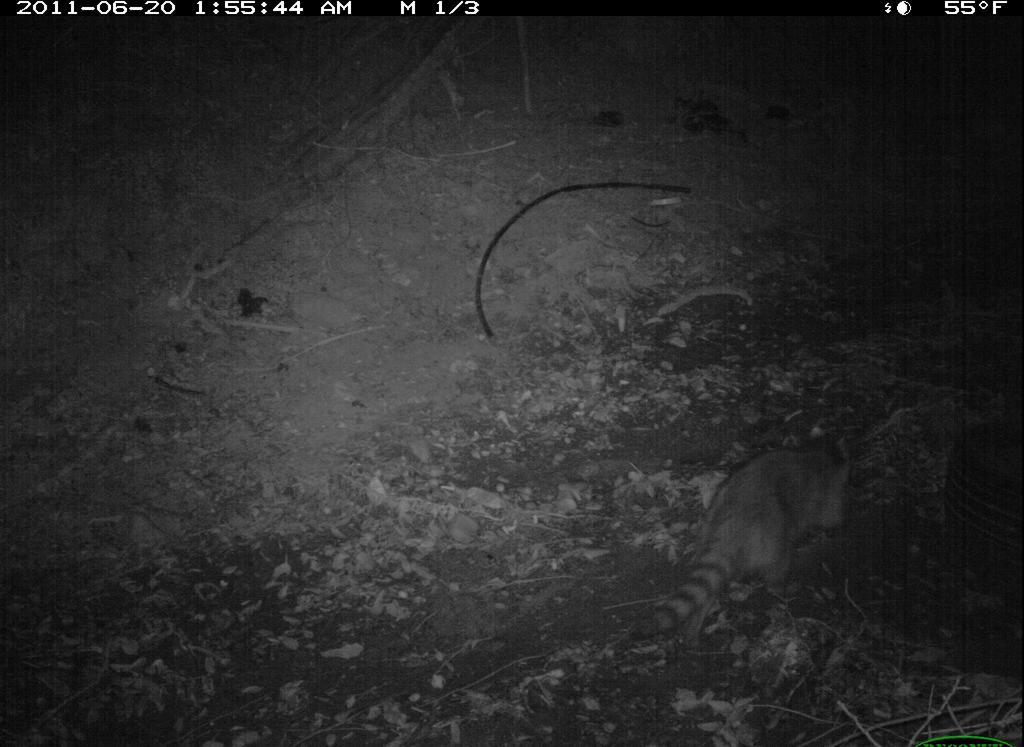raccoon: (628, 411, 865, 656)
